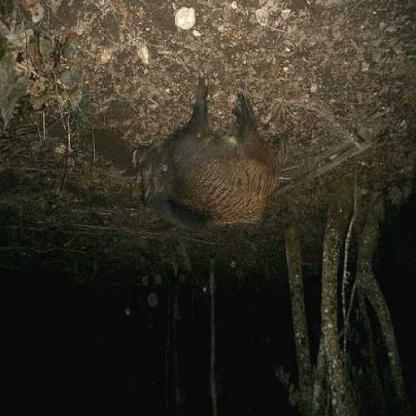boar: (120, 72, 274, 240)
